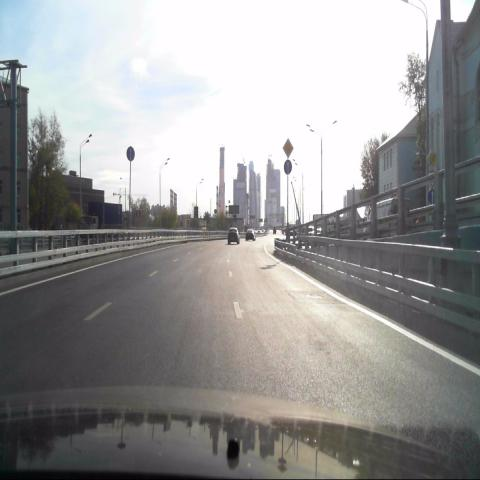2_1: (282, 138, 294, 158)
4_1_1: (126, 145, 135, 162), (283, 159, 292, 175)
